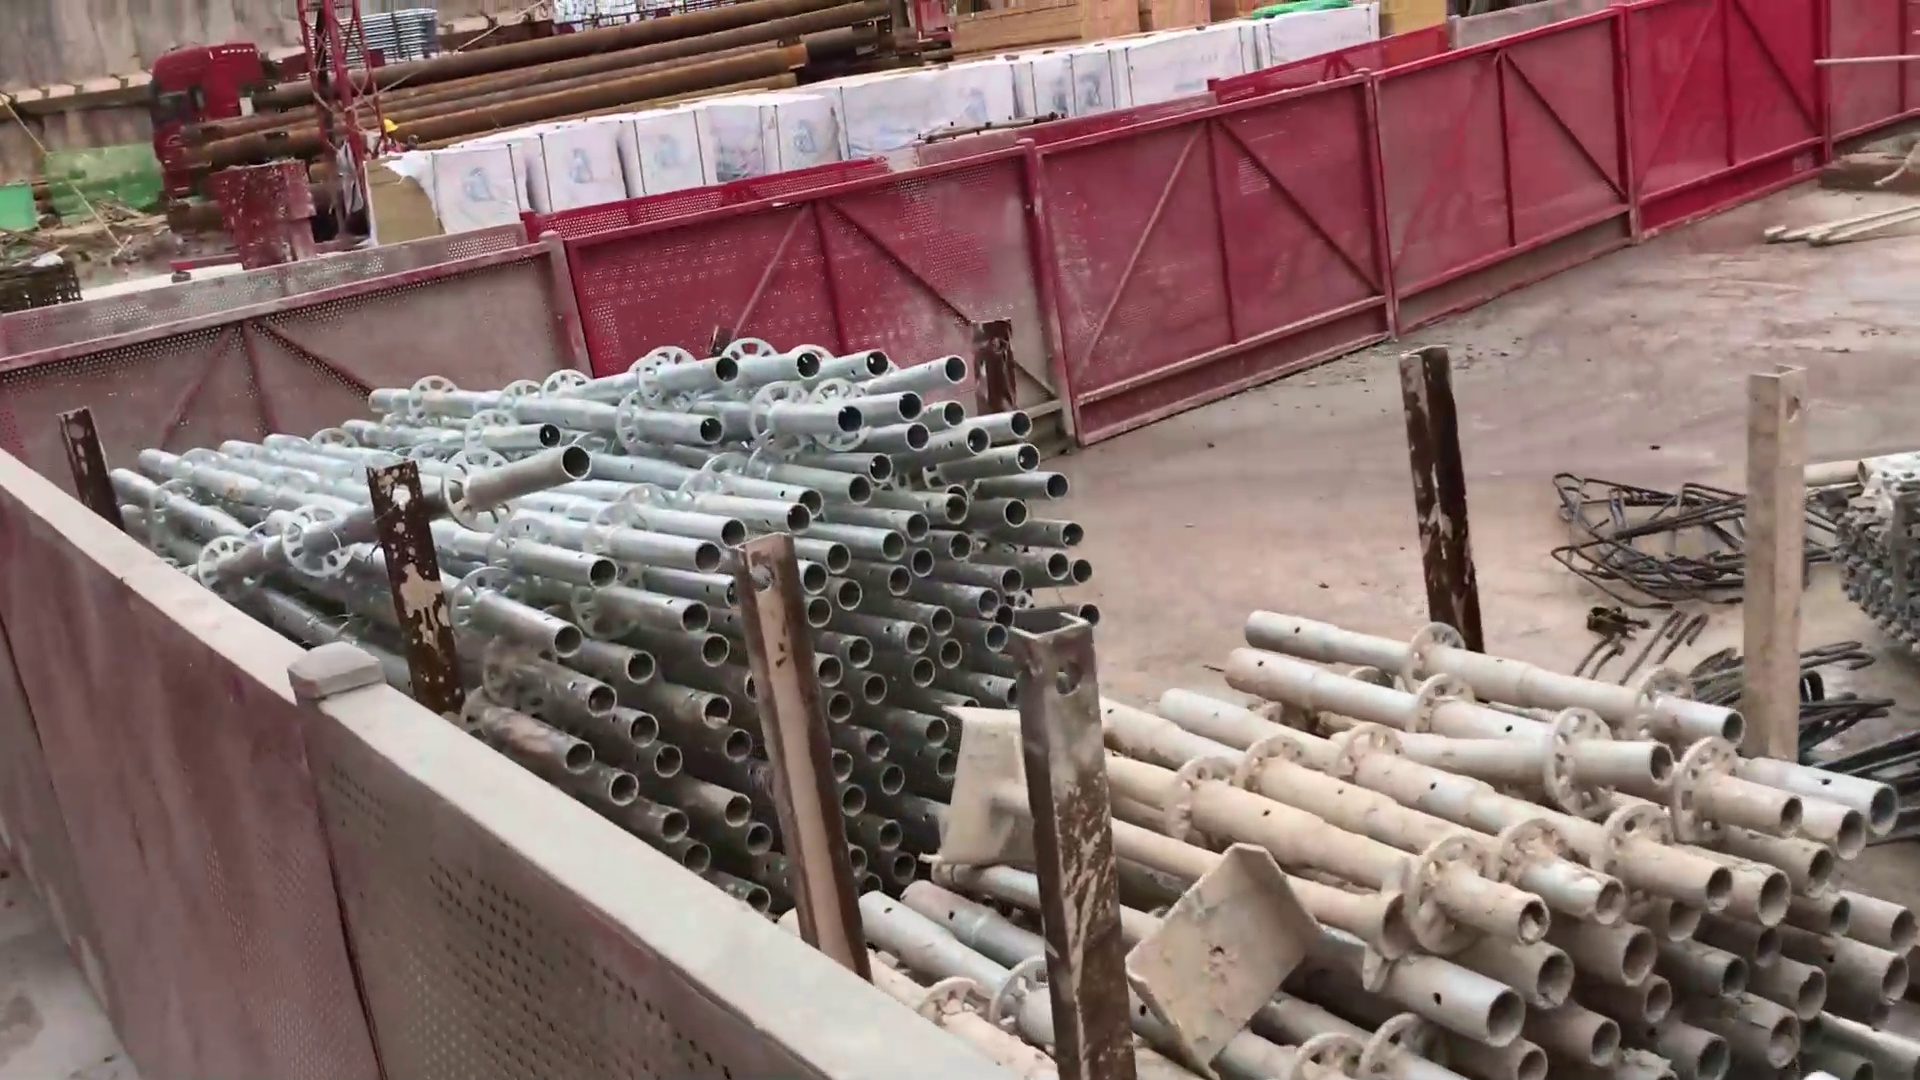fence: (1040, 1, 1902, 435)
scaffold: (1004, 618, 1920, 1079), (148, 334, 1101, 764)
